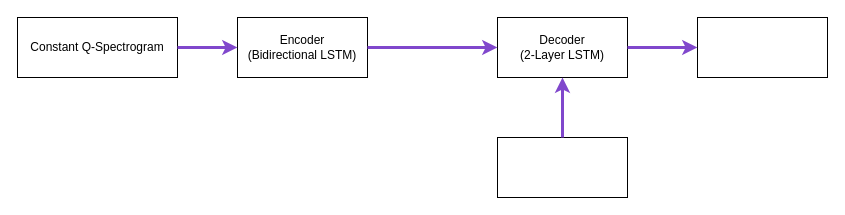
The diagram is 845 pixels wide and 215 high, and some of its shapes have lost their labels. Each missing label, with the box of its shape:
Difficulty Stats: (496, 136, 628, 198)
Hit Object Predictions (Spatial, Timing): (696, 16, 828, 78)
